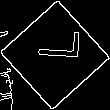L_W: (29, 38, 81, 72)
